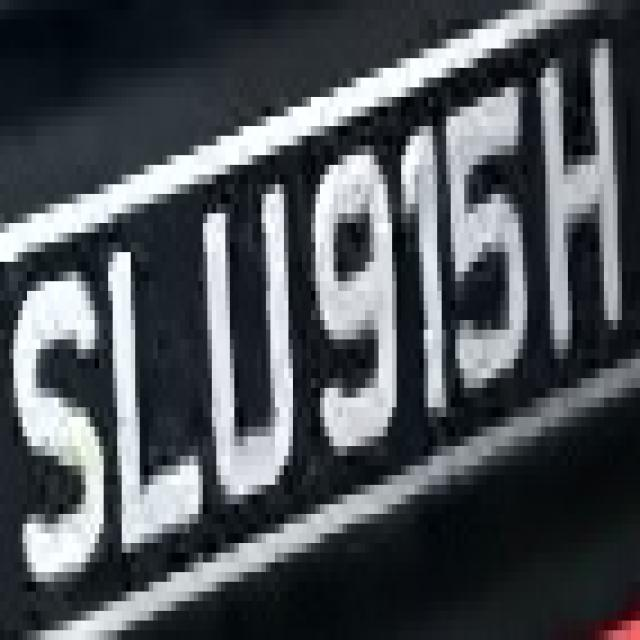1: (392, 97, 451, 465)
5: (433, 58, 527, 417)
9: (311, 126, 401, 475)
H: (532, 29, 622, 359)
L: (99, 223, 207, 543)
S: (9, 242, 117, 562)
U: (194, 165, 306, 533)
